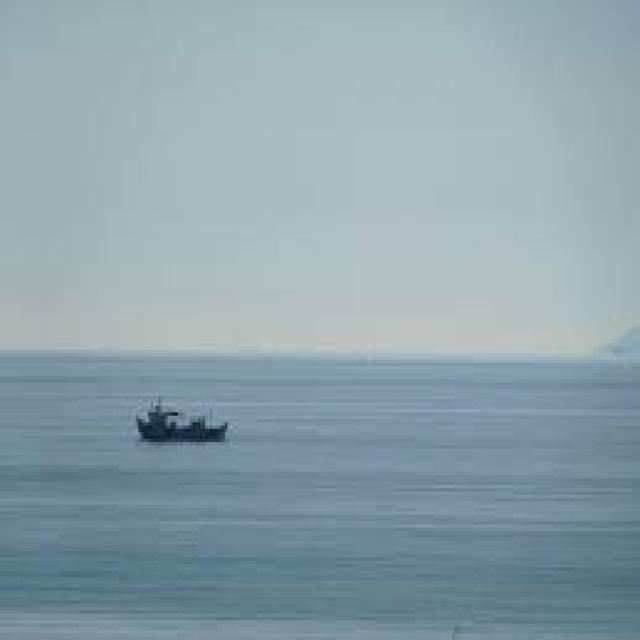fishing boat: (124, 393, 238, 446)
